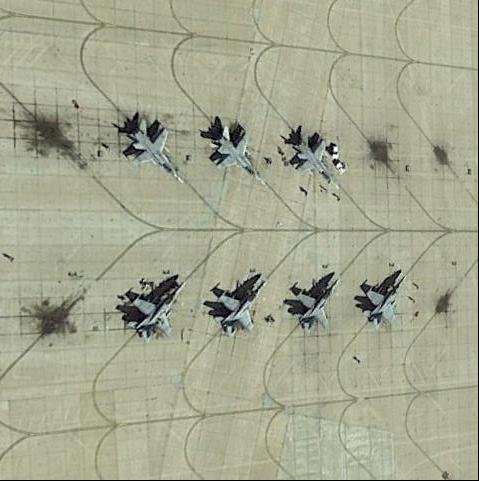F/A-18: (124, 279, 187, 345), (204, 122, 267, 183), (210, 277, 270, 338), (123, 115, 181, 177), (285, 276, 342, 336), (360, 269, 413, 330), (285, 129, 340, 185)
